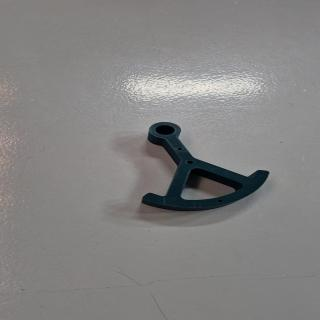haptic: (140, 121, 270, 212)
